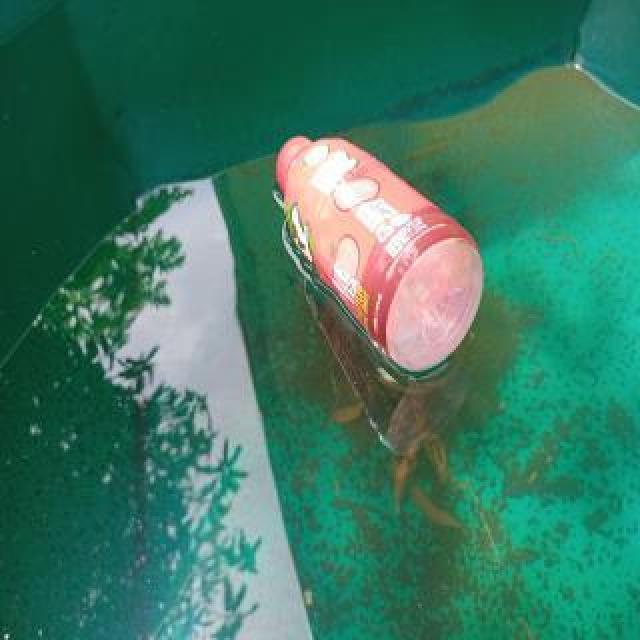bottle: (278, 126, 484, 378)
